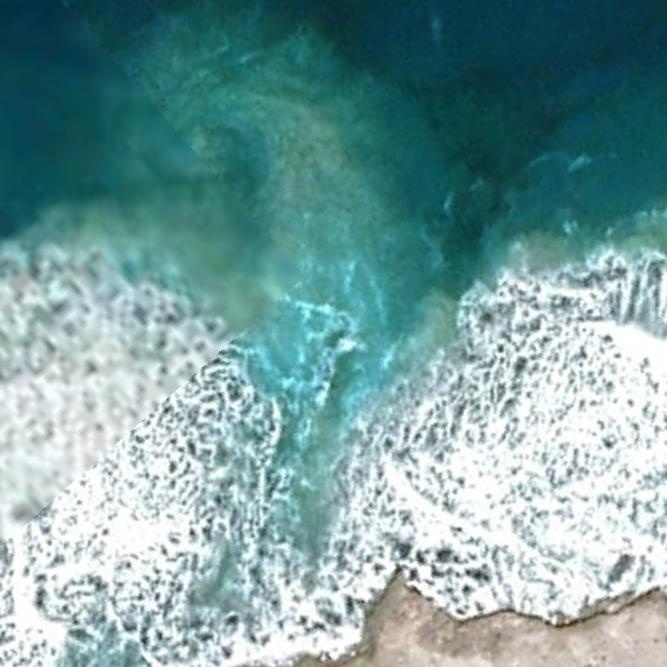rip_current: (125, 50, 452, 580)
